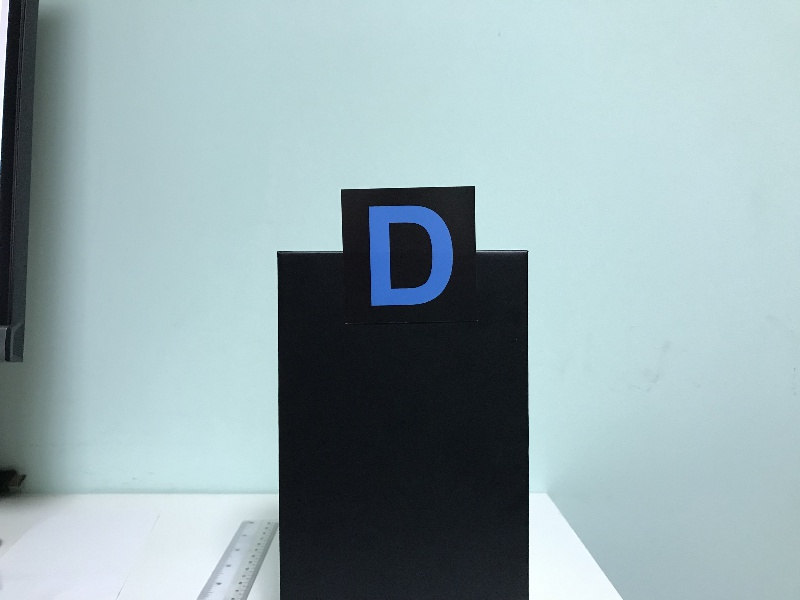D-14: (348, 192, 474, 321)
